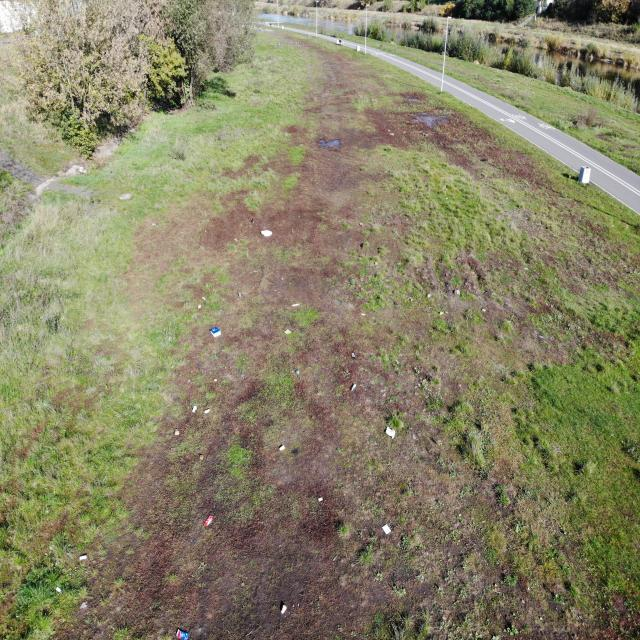rubbish: (175, 629, 192, 639), (385, 426, 397, 440), (203, 515, 215, 528), (209, 327, 223, 337), (260, 229, 275, 238), (202, 406, 215, 416), (279, 604, 289, 615), (381, 524, 391, 535), (236, 291, 246, 302), (291, 301, 304, 309), (283, 328, 295, 336), (350, 383, 357, 394), (191, 405, 199, 414), (77, 554, 87, 561), (358, 311, 368, 318), (196, 301, 203, 310), (279, 445, 287, 452), (174, 428, 181, 436), (54, 587, 63, 593), (201, 296, 208, 303), (250, 218, 255, 227), (149, 223, 159, 227), (199, 455, 205, 461), (351, 353, 357, 359), (318, 496, 323, 501), (296, 369, 301, 374)
